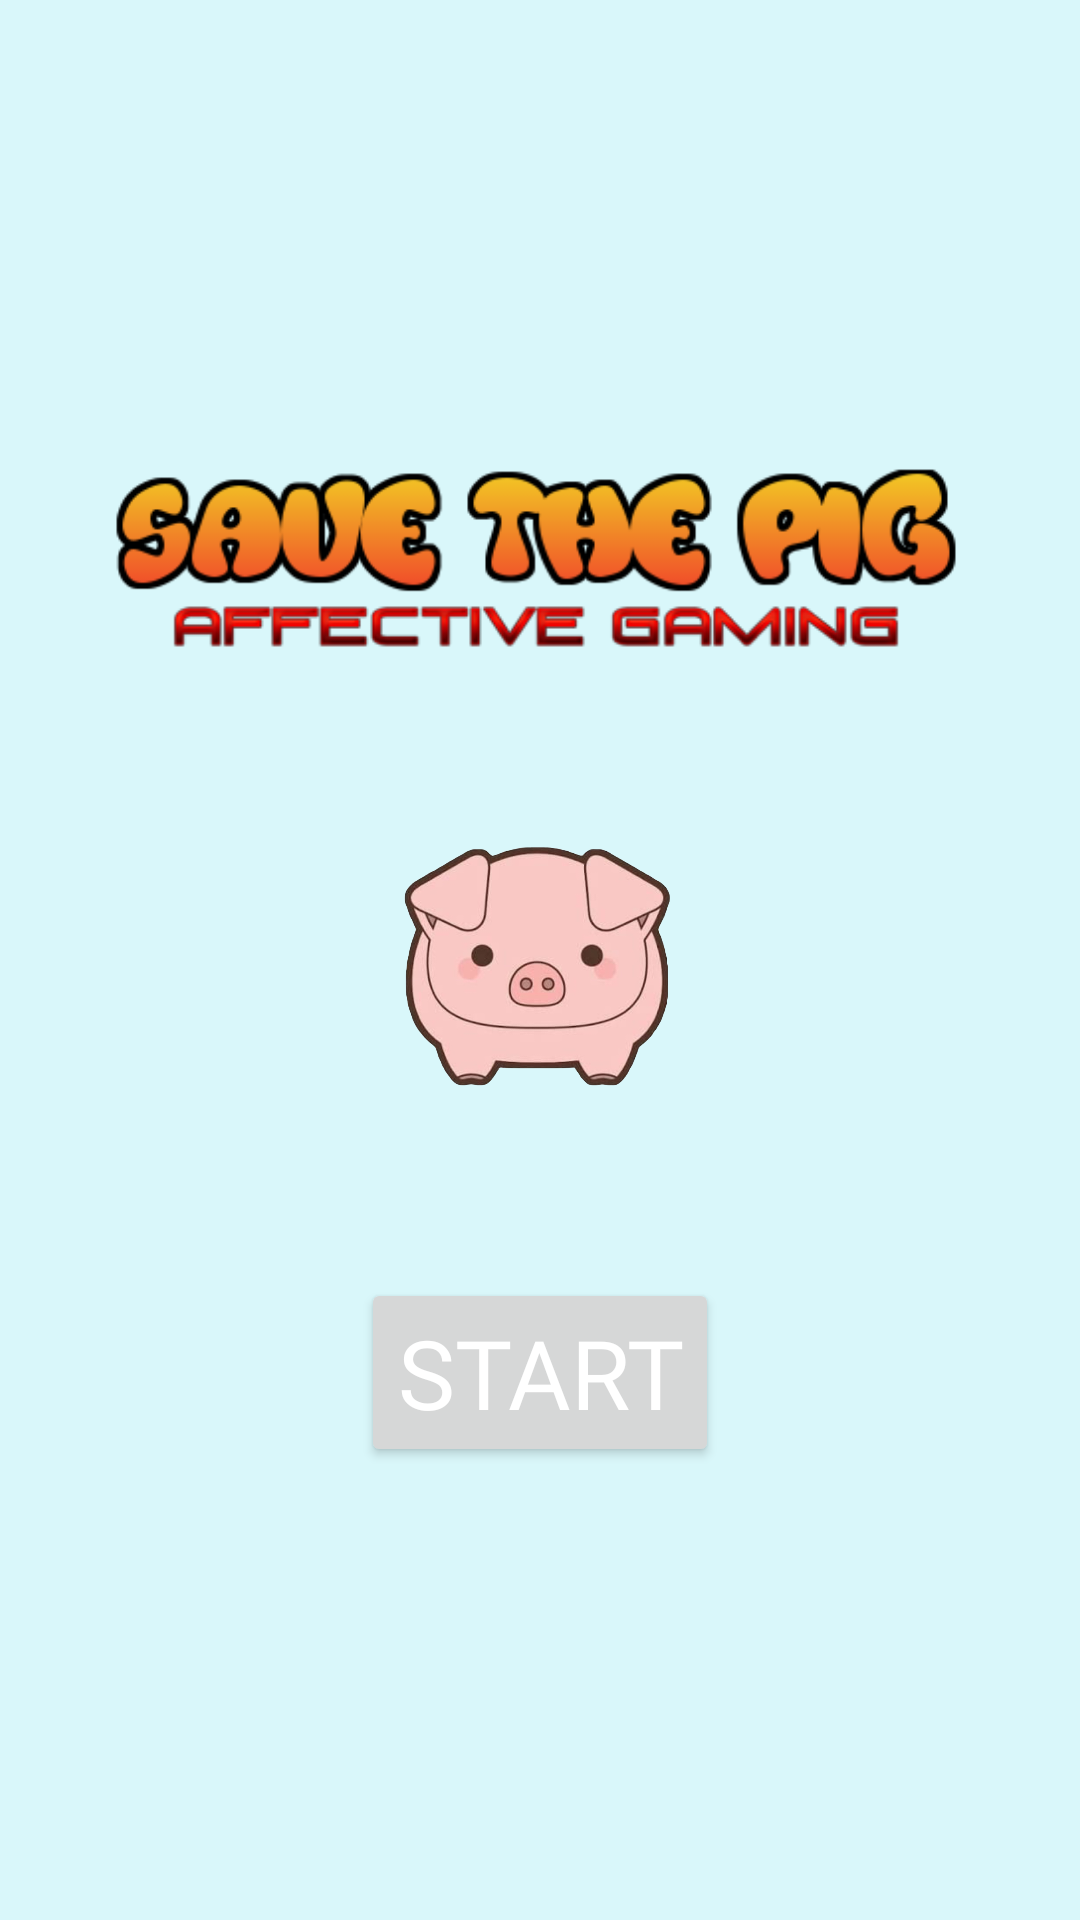

Icons on this 1080w x 1920h Android screen, each with the point to tap as (x=x, y=y):
pighigh: (x=537, y=966)
